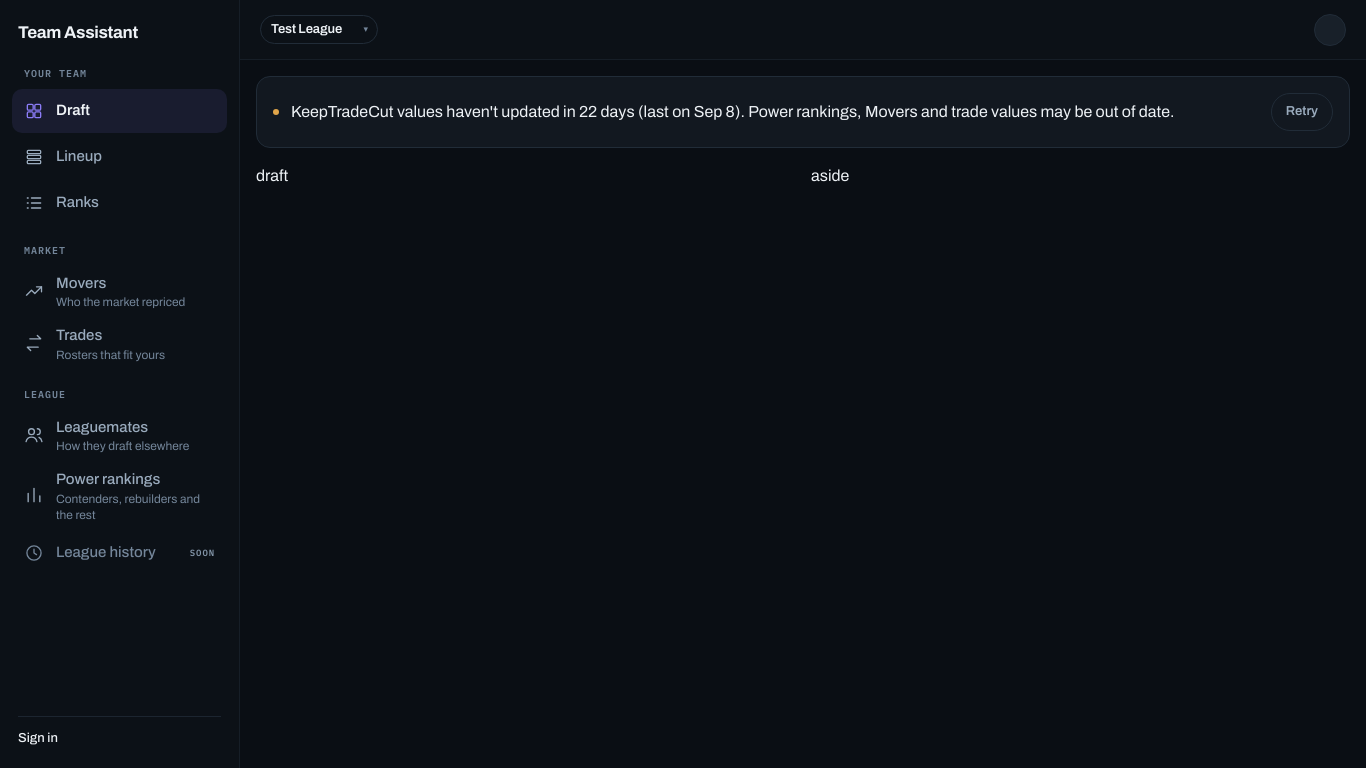
Test: AppShell › stale market values › warns on every page while a source is stale, and clears on Retry once it is fixed
Expected: the message holds "KeepTradeCut values haven't updated in \\d+ days \\(last on Sep 8\\)", [256,76,1350,148]
Click the button "Retry" at (1302, 112), box [1271,93,1333,130]
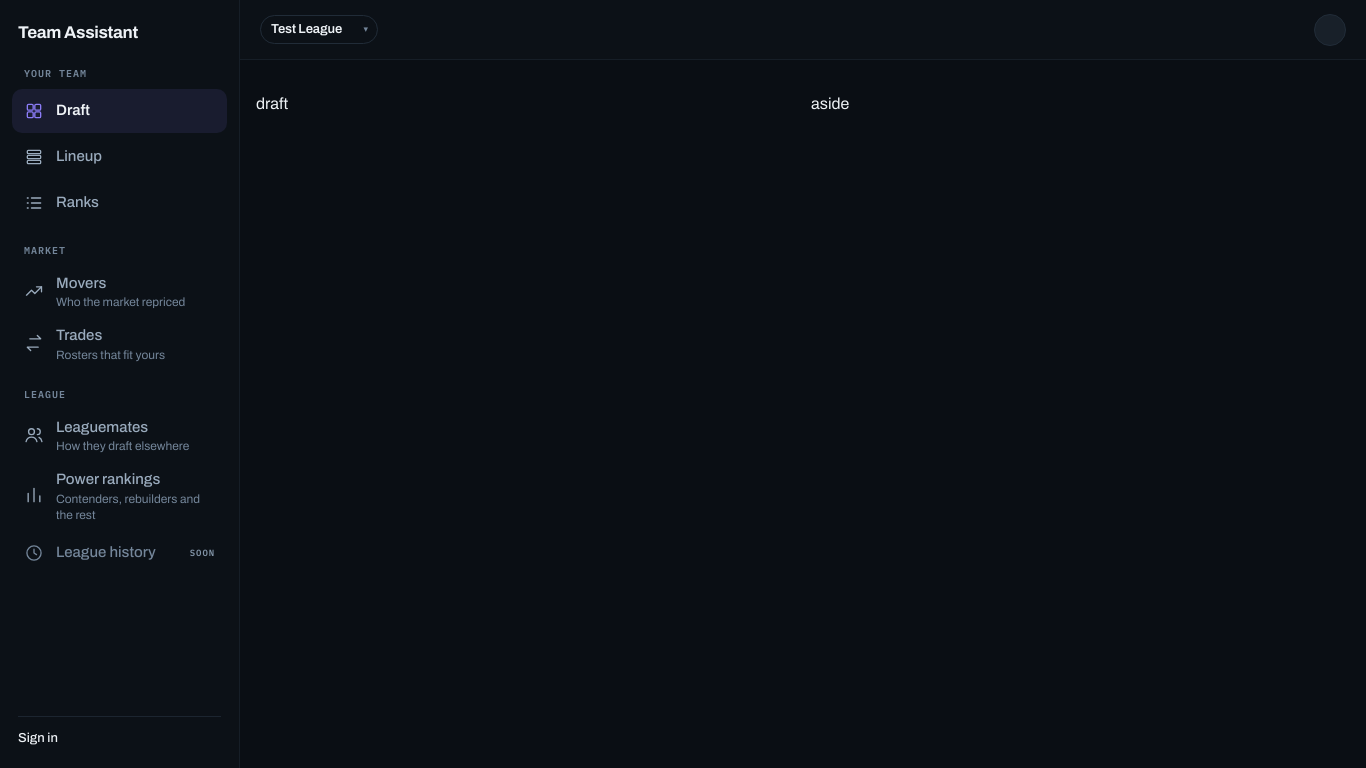
Expected: the text "KeepTradeCut values haven't updated" is gone
